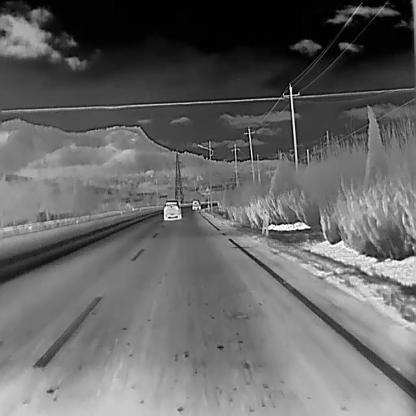car: (161, 200, 182, 220), (190, 198, 200, 210)
